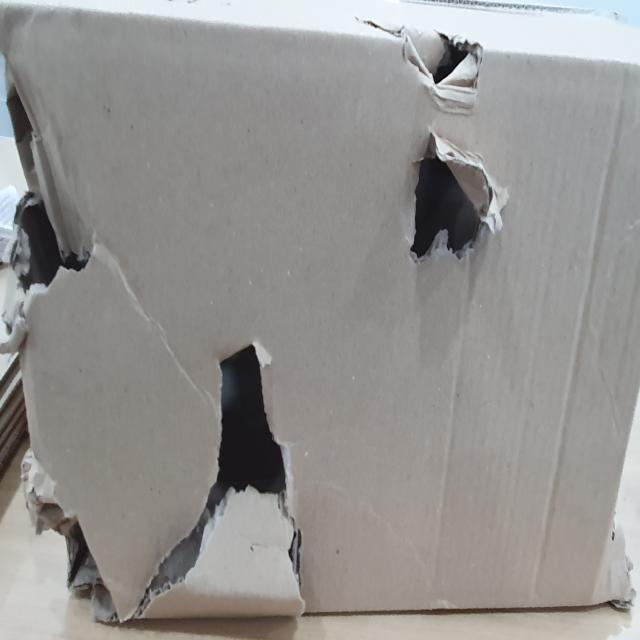hole: (118, 328, 306, 622), (355, 13, 503, 267), (2, 37, 105, 301), (12, 447, 114, 628)
